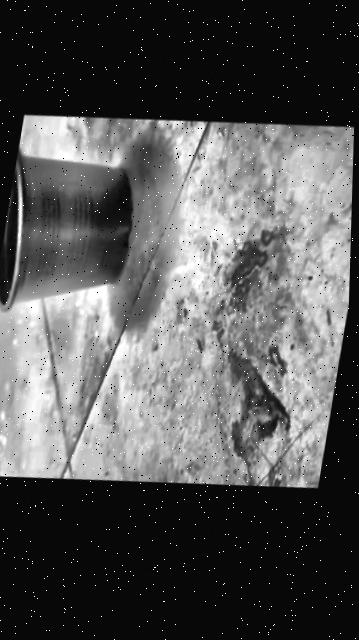pot: (0, 133, 142, 328)
